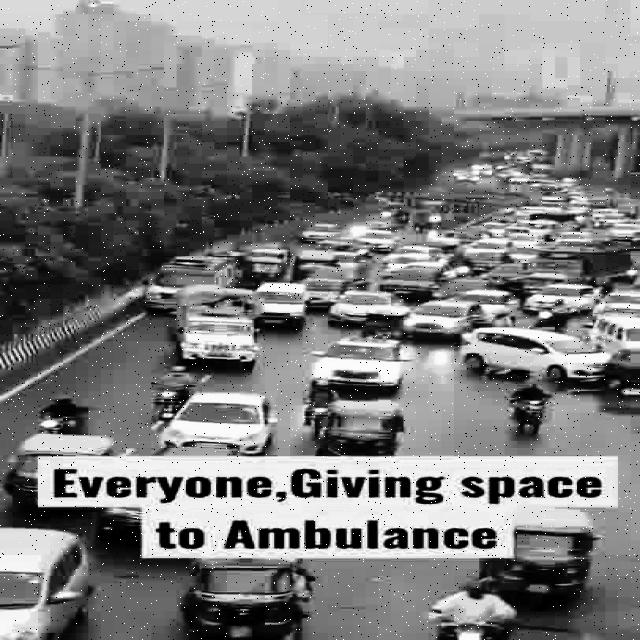Ambulance: (138, 254, 233, 307)
